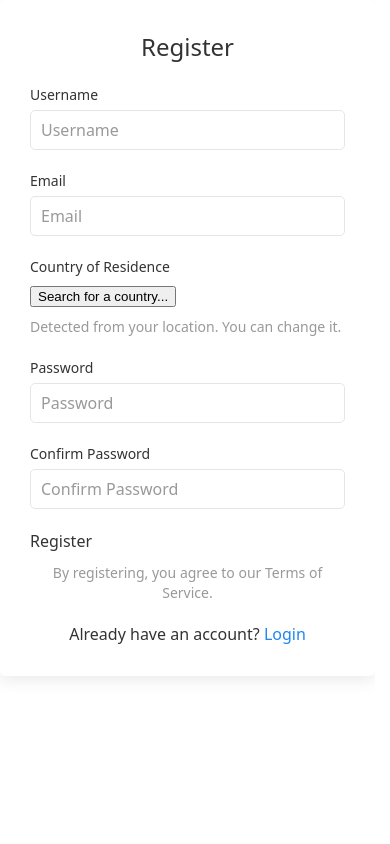
Scenario: RegisterPage Validation › should not show confirm password error when typing in password field
Note: Start typing in password field
Type "Password123" into the password field with placeholder "Password". click: (188, 403)
box: [30,383,345,423]
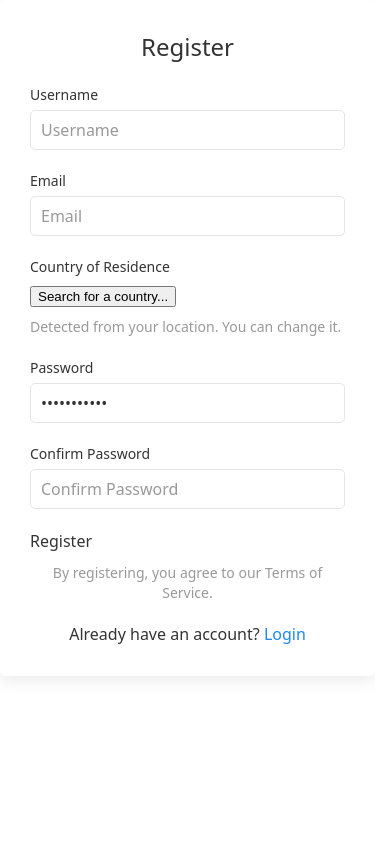
Check: the text "Confirm password is required" is not shown
Leave the password field with placeholder "Confirm Password", box [30,469,345,509]
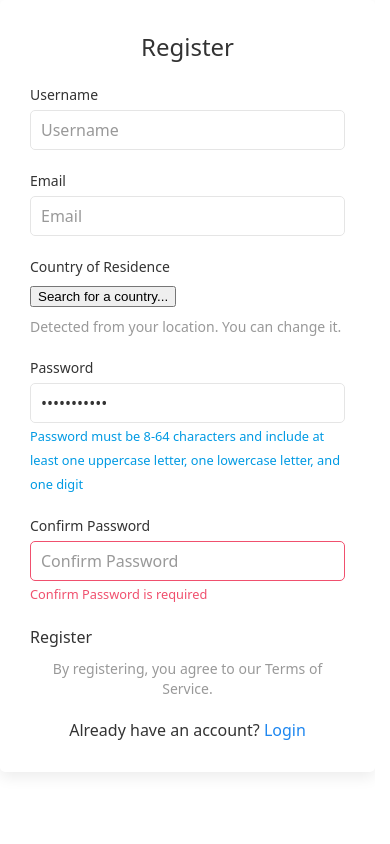
Check: the text "Confirm Password is required" is shown, box [30,585,207,603]
